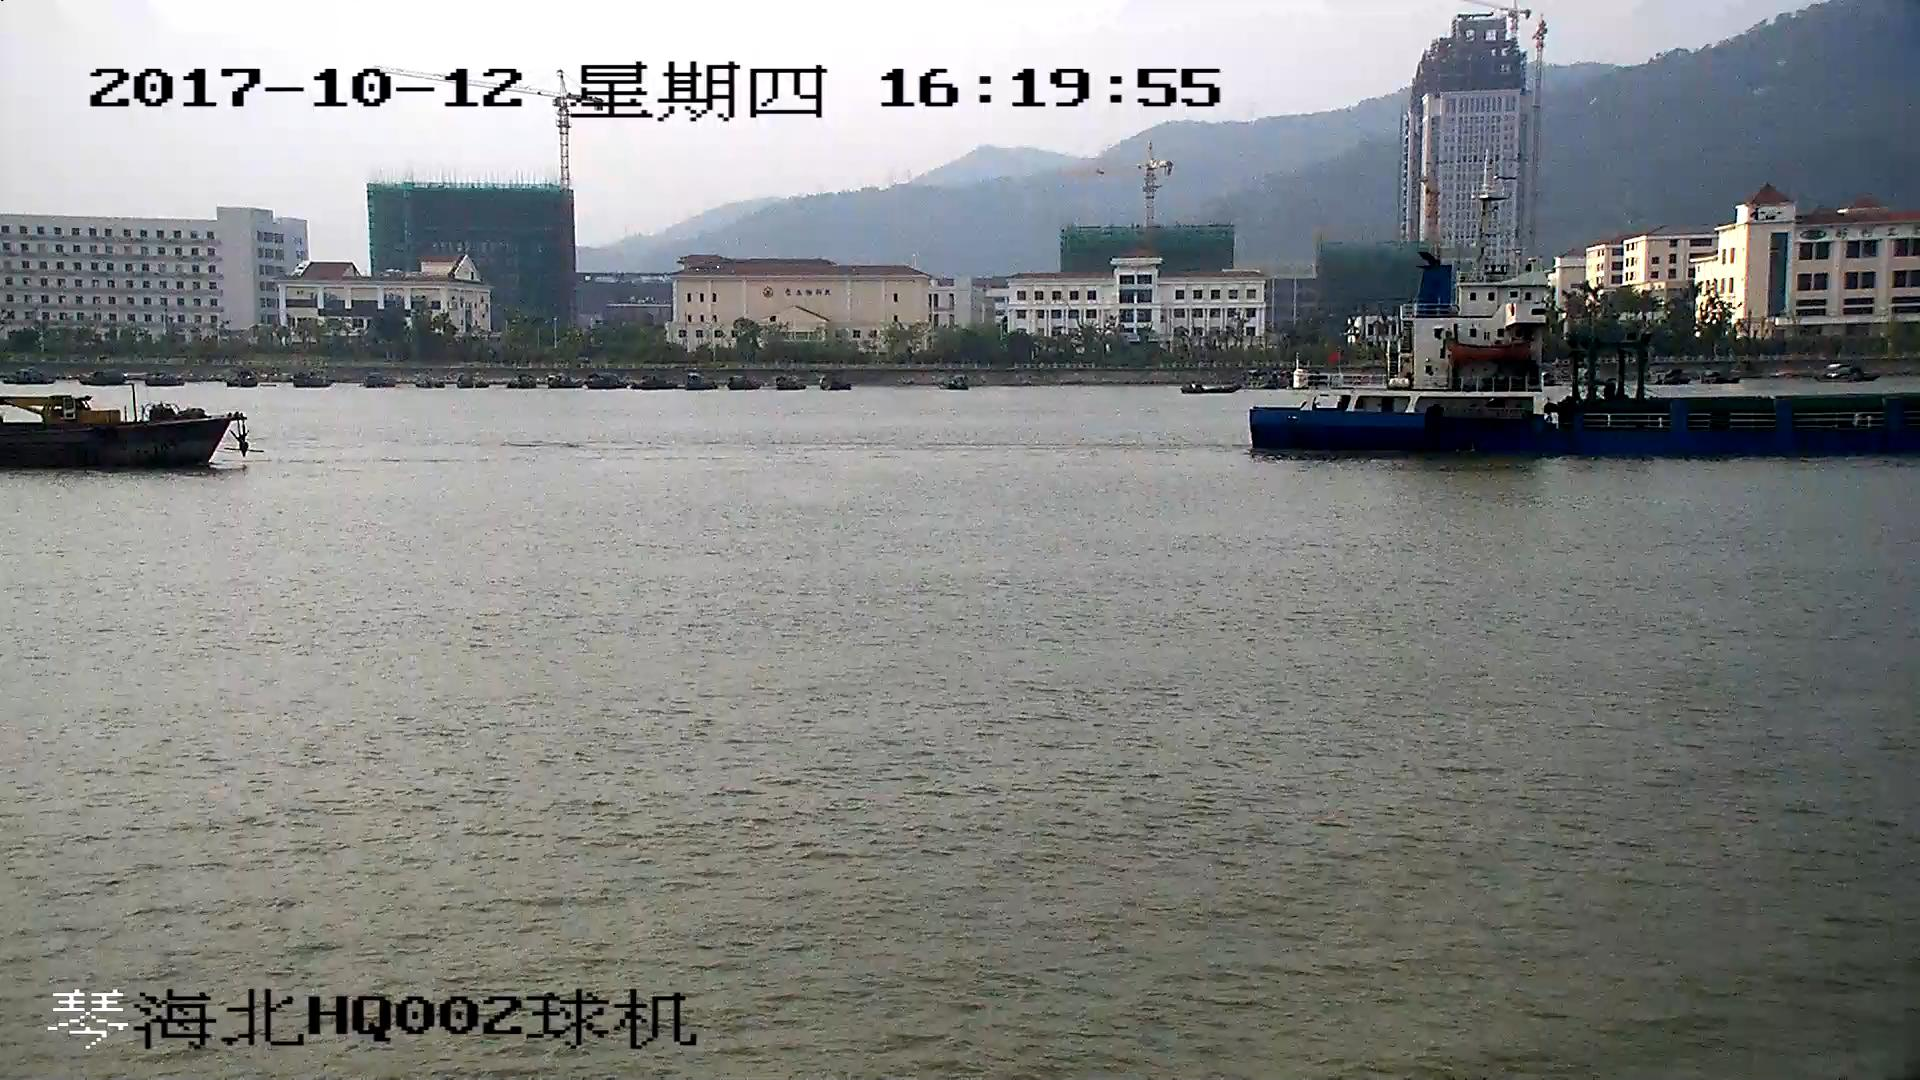bulk cargo carrier: (1258, 181, 1920, 459)
fishing boat: (1, 392, 238, 460)
